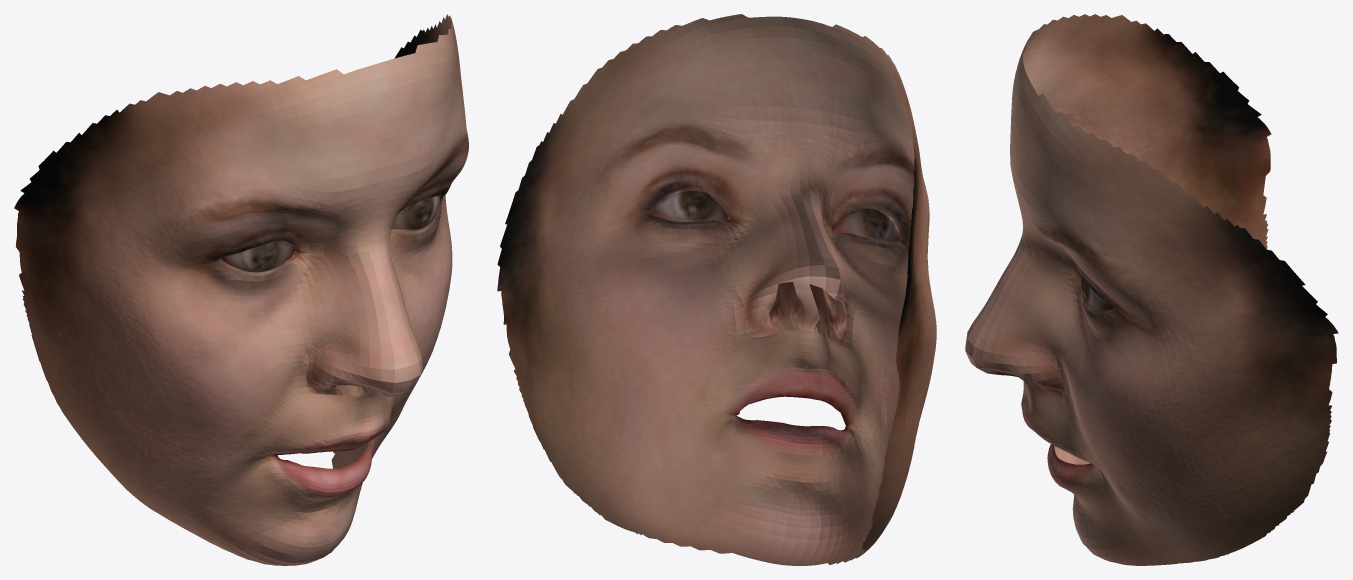
The model's file is frame_935_mesh.obj.
3 views of the same model, side by side, from view 1: azimuth 30°, elevation 25°; view 2: azimuth 150°, elevation 25°; view 3: azimuth 270°, elevation 25° (orthographic). The views are drawn at different scales.
Bounding box in the file's own units: 1.31 × 1.68 × 1.13.
